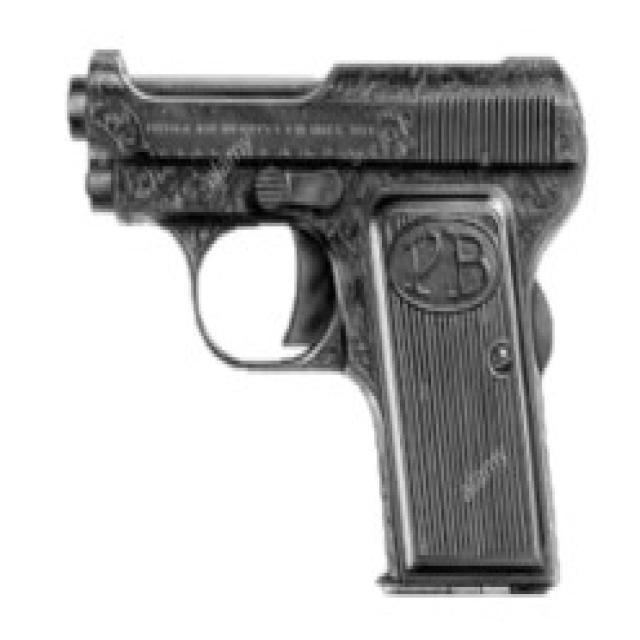pistol: (61, 38, 592, 613)
